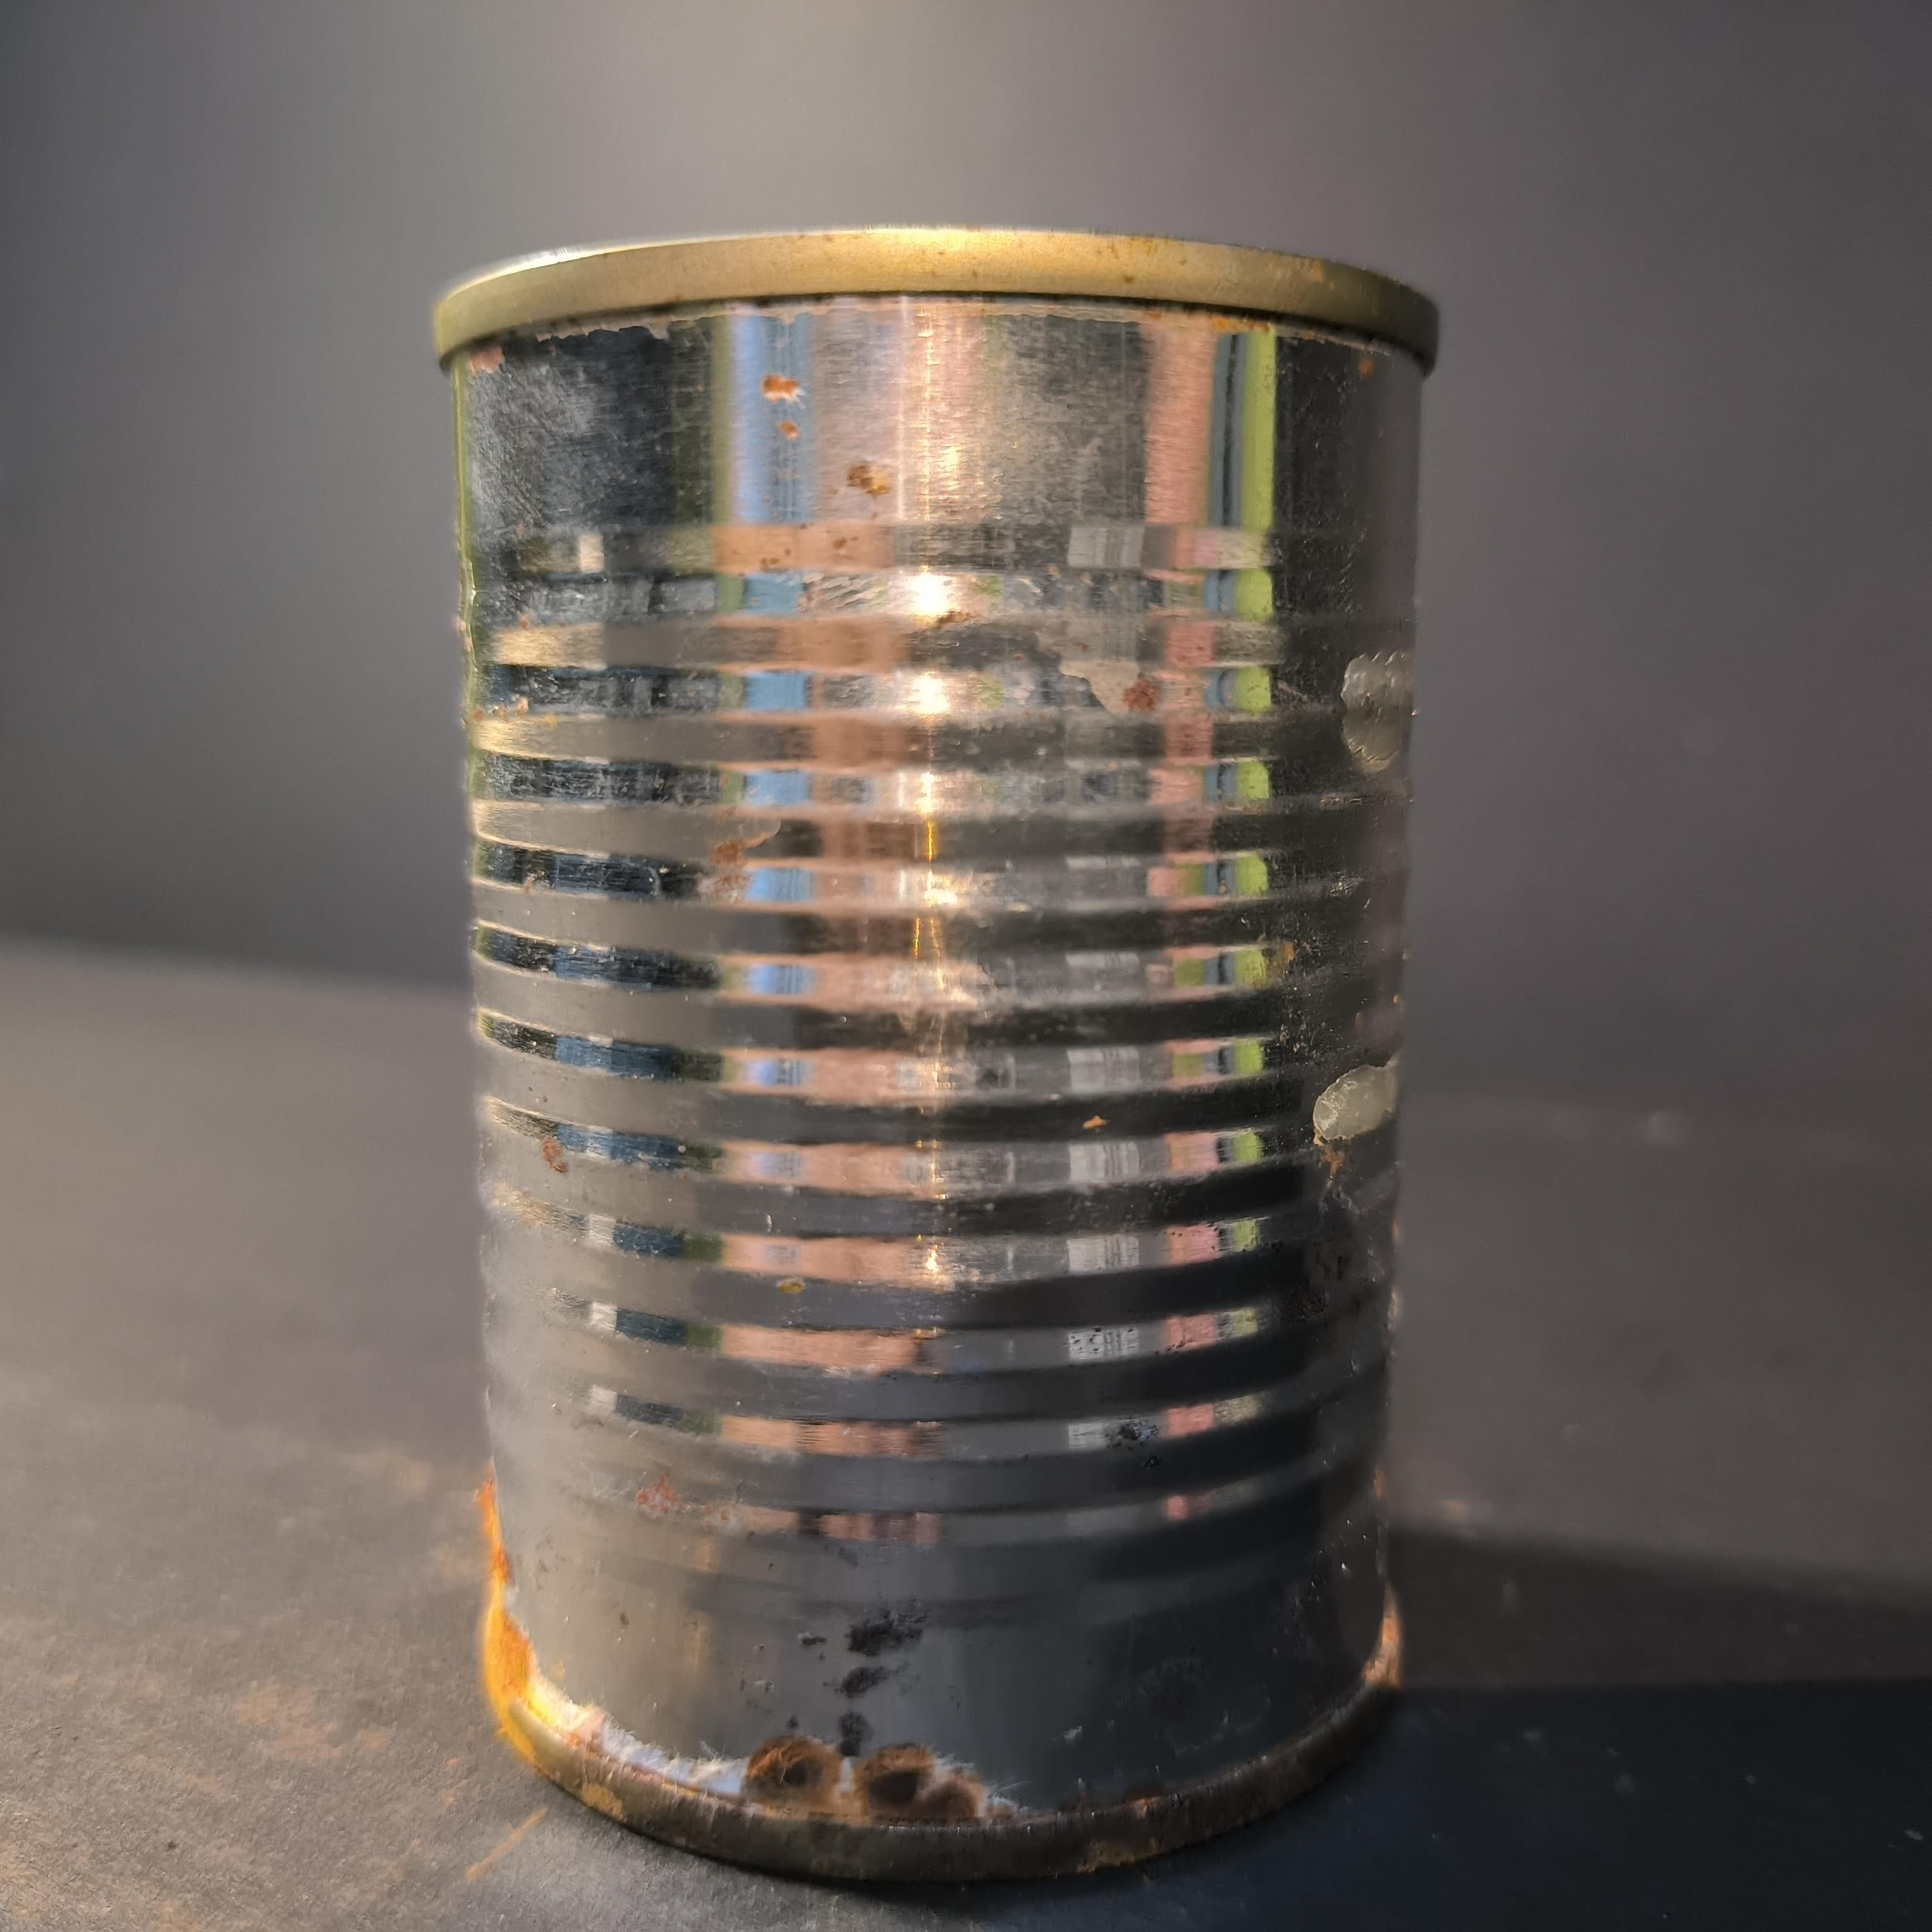Rusted: (400, 214, 1453, 1877)
